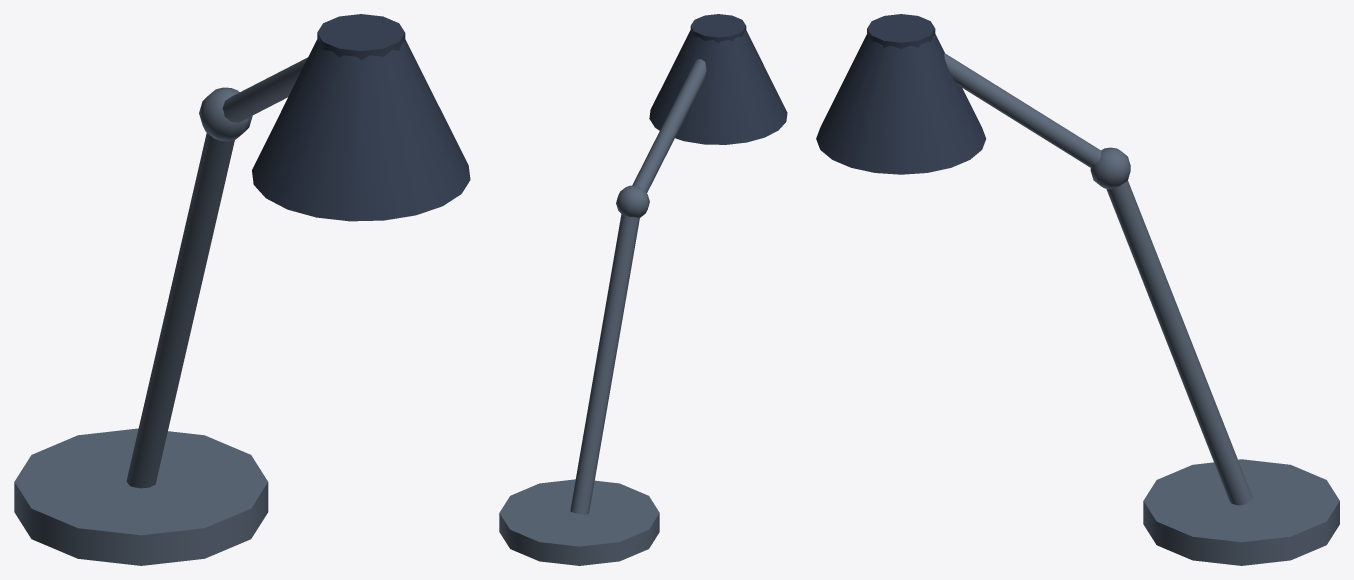
Rendered from lamp.desk.arm.glb.
3 renders of one model, left to right at view 1: azimuth 30°, elevation 25°; view 2: azimuth 150°, elevation 25°; view 3: azimuth 270°, elevation 25°, orthographic. The views are drawn at different scales.
Parts seen in each view (by area): view 1: frame, shade; view 2: frame, shade; view 3: frame, shade.
Boxes of the visible parts, box(x1,y1,x2,y2) form: frame: box(14, 57, 307, 565); shade: box(252, 14, 470, 221); frame: box(499, 59, 706, 565); shade: box(649, 14, 787, 144); frame: box(944, 53, 1339, 565); shade: box(816, 14, 986, 174).
Size of the model in its own units: 0.15 by 0.418 by 0.4.
